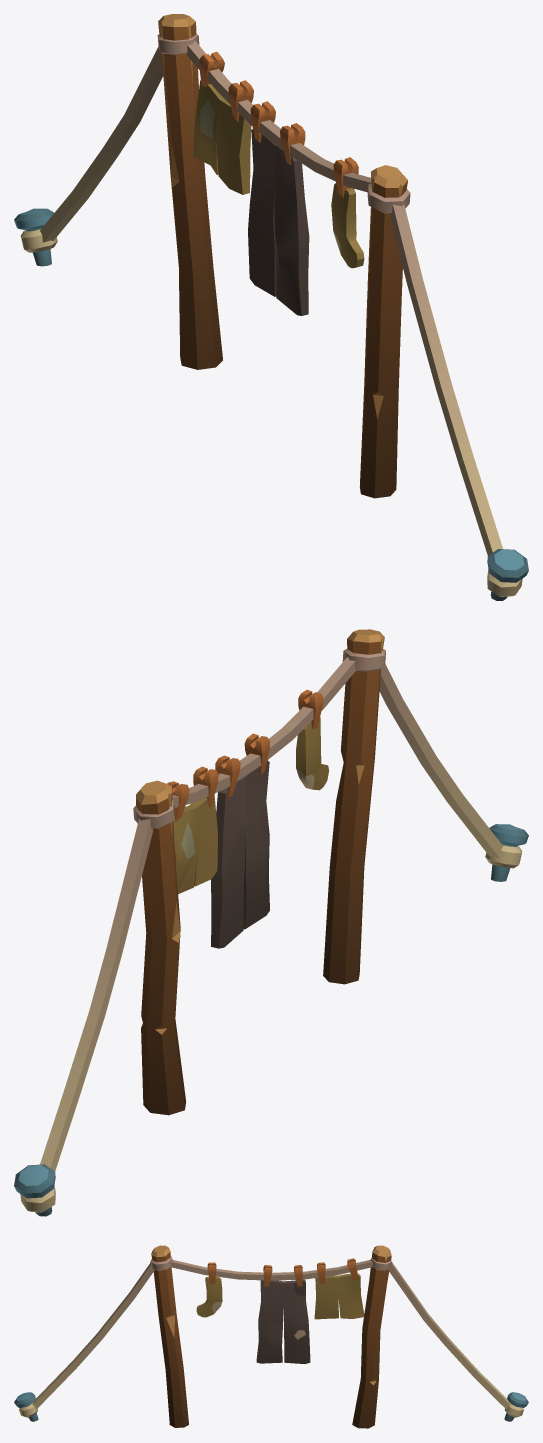
The model's file is Laundry_A.glb.
3 renders of one model, top to bottom at view 1: azimuth 30°, elevation 25°; view 2: azimuth 150°, elevation 25°; view 3: azimuth 270°, elevation 25°, orthographic. The views are drawn at different scales.
Visible parts, largest first — view 1: Laundry_A; view 2: Laundry_A; view 3: Laundry_A.
Boxes of the visible parts, x1,y1,x2,y2 form: Laundry_A: [14, 14, 528, 600]; Laundry_A: [14, 629, 528, 1216]; Laundry_A: [14, 1245, 528, 1428].
Bounding box in the file's own units: 0.2619 × 1.56 × 4.16.
2 materials, 2 textured.
